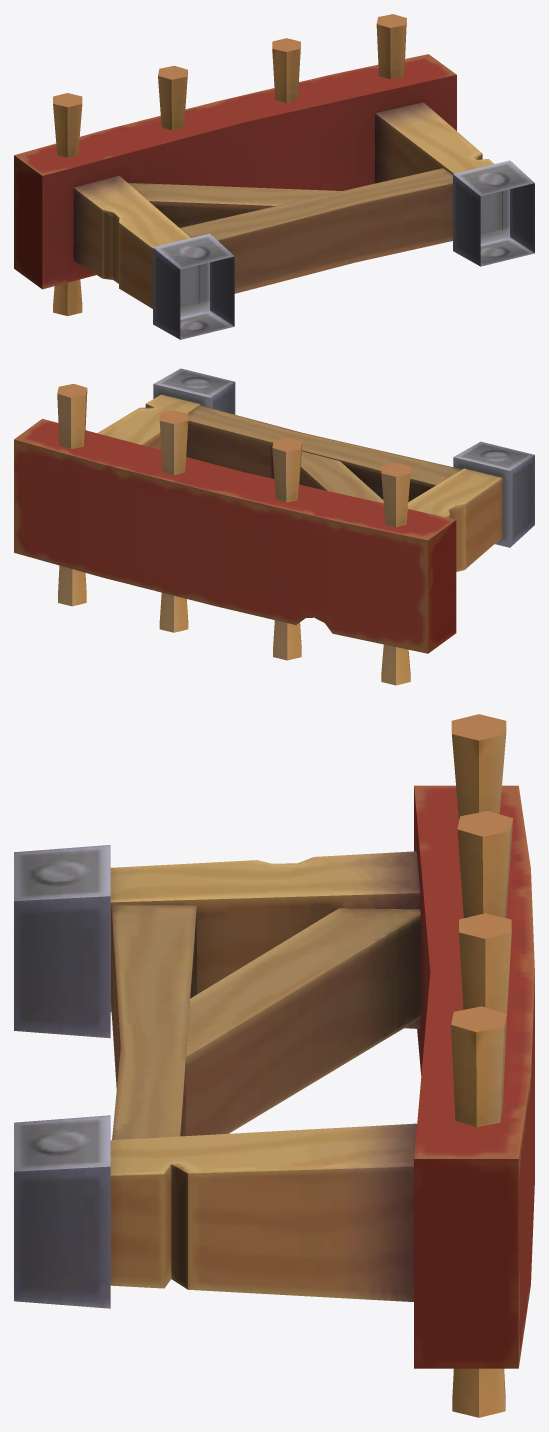
File: InteractiveSwordRack.fbx
3 views of the same model, one above another, from view 1: azimuth 30°, elevation 25°; view 2: azimuth 150°, elevation 25°; view 3: azimuth 270°, elevation 25° (orthographic). The views are drawn at different scales.
Visible parts, largest first — view 1: InteractiveSwordRack; view 2: InteractiveSwordRack; view 3: InteractiveSwordRack.
Boxes of the visible parts, x1,y1,x2,y2 form: InteractiveSwordRack: (14, 14, 534, 339); InteractiveSwordRack: (14, 368, 534, 685); InteractiveSwordRack: (14, 714, 534, 1417).
Bounding box in the file's own units: 90.45 × 43.54 × 53.32.
